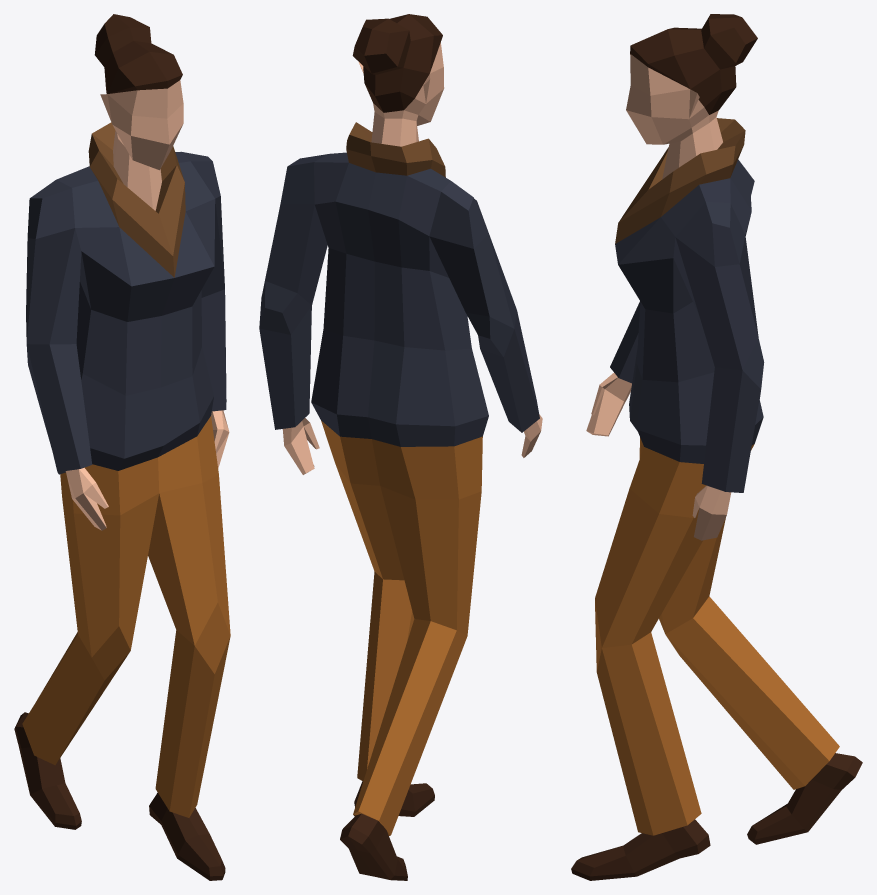
The model's file is AutumnWomanC.003.glb.
3 views of the same model, side by side, from view 1: azimuth 30°, elevation 25°; view 2: azimuth 150°, elevation 25°; view 3: azimuth 270°, elevation 25° (orthographic). The views are drawn at different scales.
Parts seen in each view (by area): view 1: AutumnWomanC.003; view 2: AutumnWomanC.003; view 3: AutumnWomanC.003.
Part boxes in pixels (x1=…): AutumnWomanC.003: x1=14, y1=14, x2=230, y2=880; AutumnWomanC.003: x1=259, y1=14, x2=542, y2=880; AutumnWomanC.003: x1=571, y1=14, x2=862, y2=880.
Bounding box in the file's own units: 0.4845 × 1.71 × 0.5352.
Materials: 1 (1 with a texture image).
